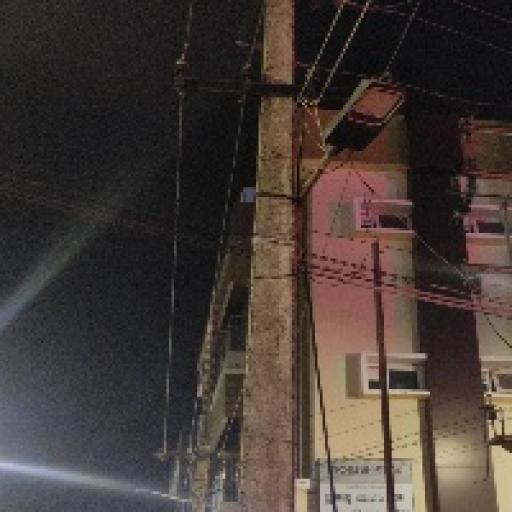Not Working: (306, 66, 414, 179)
